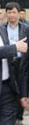boots: (0, 120, 7, 125), (0, 116, 5, 122)
hard-hat: (20, 0, 29, 8)
